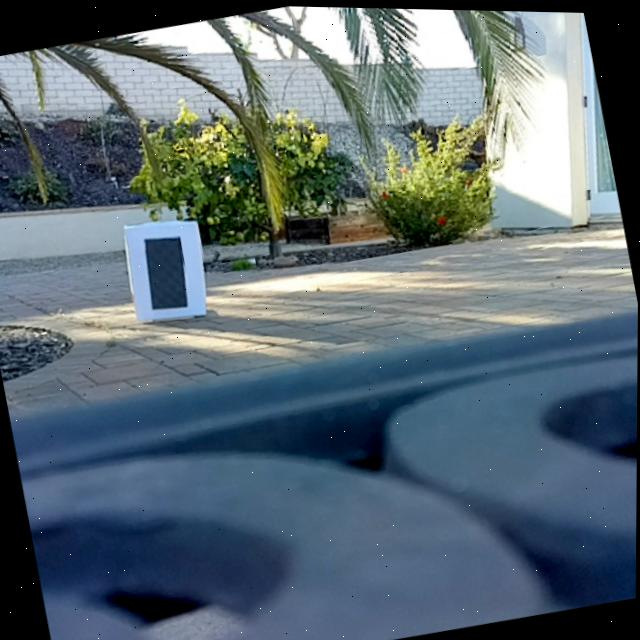led: (140, 230, 195, 313)
